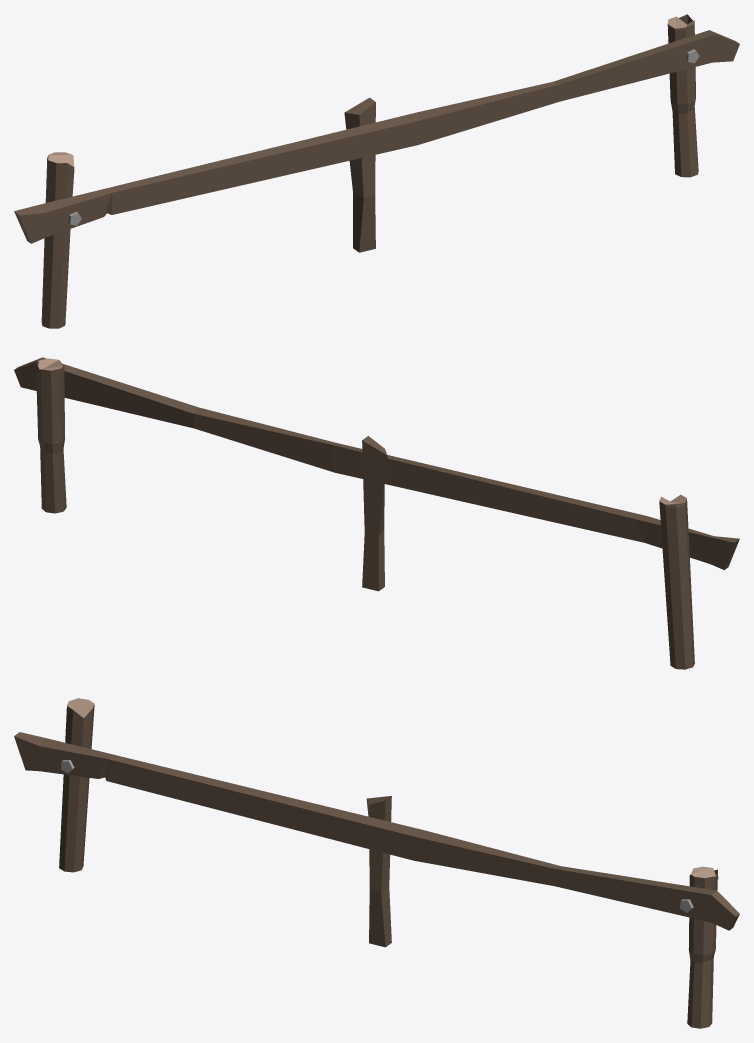
The model's file is Isl_1_Fence_1.fbx.
3 views of the same model, one above another, from view 1: azimuth 30°, elevation 25°; view 2: azimuth 150°, elevation 25°; view 3: azimuth 330°, elevation 25° (orthographic).
Visible parts, largest first — view 1: Isl_1_Fence_1; view 2: Isl_1_Fence_1; view 3: Isl_1_Fence_1.
Part boxes in pixels (bbox=[...]): Isl_1_Fence_1: bbox=[14, 14, 739, 328]; Isl_1_Fence_1: bbox=[14, 357, 739, 669]; Isl_1_Fence_1: bbox=[14, 698, 739, 1028].
Size of the model in its own units: 585 by 31.51 by 128.
1 material, 1 textured.
